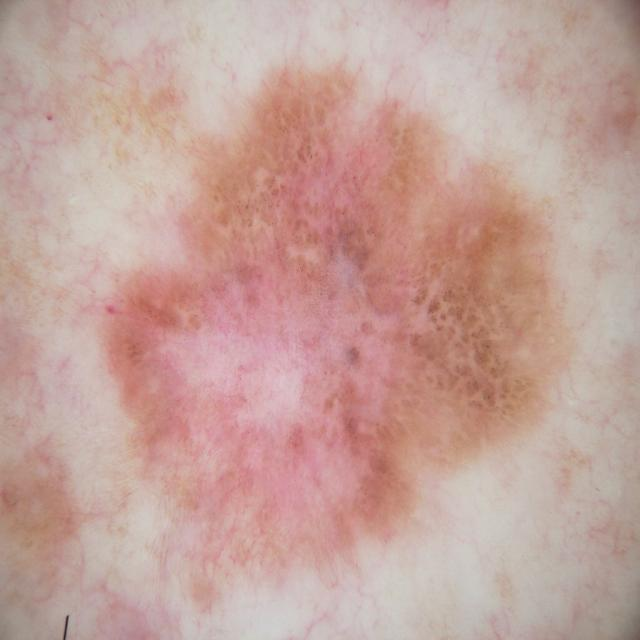Skin-Cancer Melanoma: (78, 33, 561, 640)
